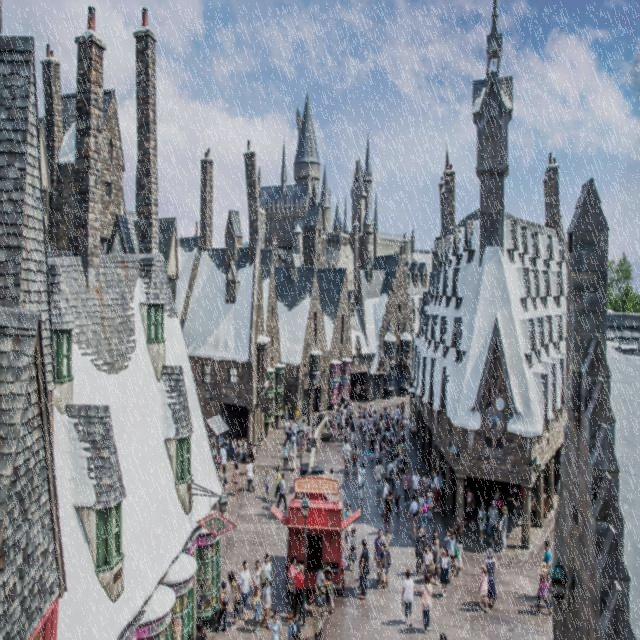pessoa: (328, 379, 418, 467), (534, 560, 552, 616), (238, 560, 254, 622), (310, 580, 326, 640), (213, 580, 230, 633), (420, 572, 434, 634), (484, 547, 498, 607), (380, 616, 422, 636), (357, 537, 370, 601), (400, 568, 414, 627), (259, 552, 276, 600), (373, 526, 387, 584), (227, 570, 240, 630), (292, 563, 305, 623), (316, 562, 330, 616), (438, 546, 452, 598), (414, 524, 427, 577), (252, 559, 265, 611), (516, 592, 542, 618), (406, 494, 420, 542), (261, 576, 273, 631), (476, 563, 489, 613), (342, 500, 355, 548), (357, 542, 369, 592), (487, 499, 499, 548), (287, 555, 297, 611), (346, 526, 358, 572), (462, 484, 475, 526), (276, 472, 290, 511), (458, 598, 492, 614), (419, 542, 434, 578), (536, 539, 552, 572), (430, 535, 440, 586), (252, 584, 262, 634), (266, 608, 282, 639), (498, 503, 508, 552), (382, 491, 393, 535), (243, 456, 256, 493), (378, 542, 388, 590), (418, 492, 429, 534), (444, 526, 457, 561), (286, 611, 302, 639), (325, 574, 336, 614), (476, 502, 486, 545), (393, 472, 403, 515), (432, 470, 442, 512), (236, 616, 256, 637), (383, 543, 392, 589), (380, 476, 390, 517), (357, 461, 367, 502), (456, 521, 464, 572), (402, 468, 412, 507), (374, 457, 384, 496), (342, 438, 352, 476), (274, 464, 284, 502), (219, 464, 229, 501), (218, 442, 228, 478), (425, 485, 435, 520), (546, 567, 554, 610), (418, 478, 427, 516), (430, 528, 440, 562), (386, 456, 394, 497), (452, 524, 459, 570), (411, 467, 420, 502), (352, 442, 361, 476), (247, 440, 256, 474), (231, 462, 240, 496), (194, 619, 208, 639), (282, 438, 290, 472), (430, 466, 438, 498), (289, 440, 297, 472), (292, 561, 301, 589), (263, 469, 271, 500), (305, 421, 313, 452), (465, 485, 475, 509), (438, 469, 444, 508), (384, 492, 392, 521), (286, 424, 293, 456), (230, 436, 238, 461), (513, 486, 520, 514), (283, 417, 291, 440), (240, 436, 247, 461), (306, 404, 312, 431), (300, 432, 306, 458), (422, 471, 429, 493), (402, 452, 409, 474), (290, 418, 298, 437), (216, 454, 222, 478), (294, 405, 300, 428), (300, 418, 307, 437), (236, 438, 242, 460), (392, 454, 398, 474), (294, 430, 300, 450), (235, 442, 242, 459), (494, 492, 502, 506), (290, 431, 297, 447), (282, 404, 289, 420), (328, 468, 336, 480), (310, 413, 316, 428), (292, 631, 302, 639), (218, 433, 225, 444), (224, 433, 230, 445), (439, 631, 447, 639), (187, 632, 194, 640)
